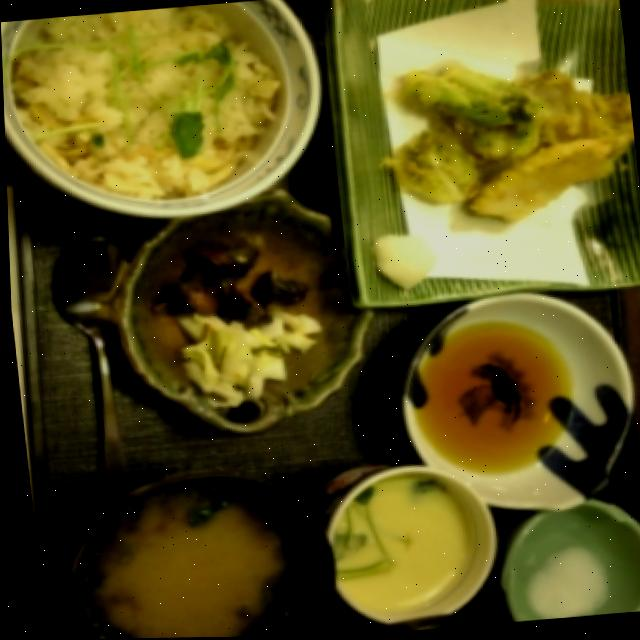蔬菜料理: (359, 0, 640, 245)
